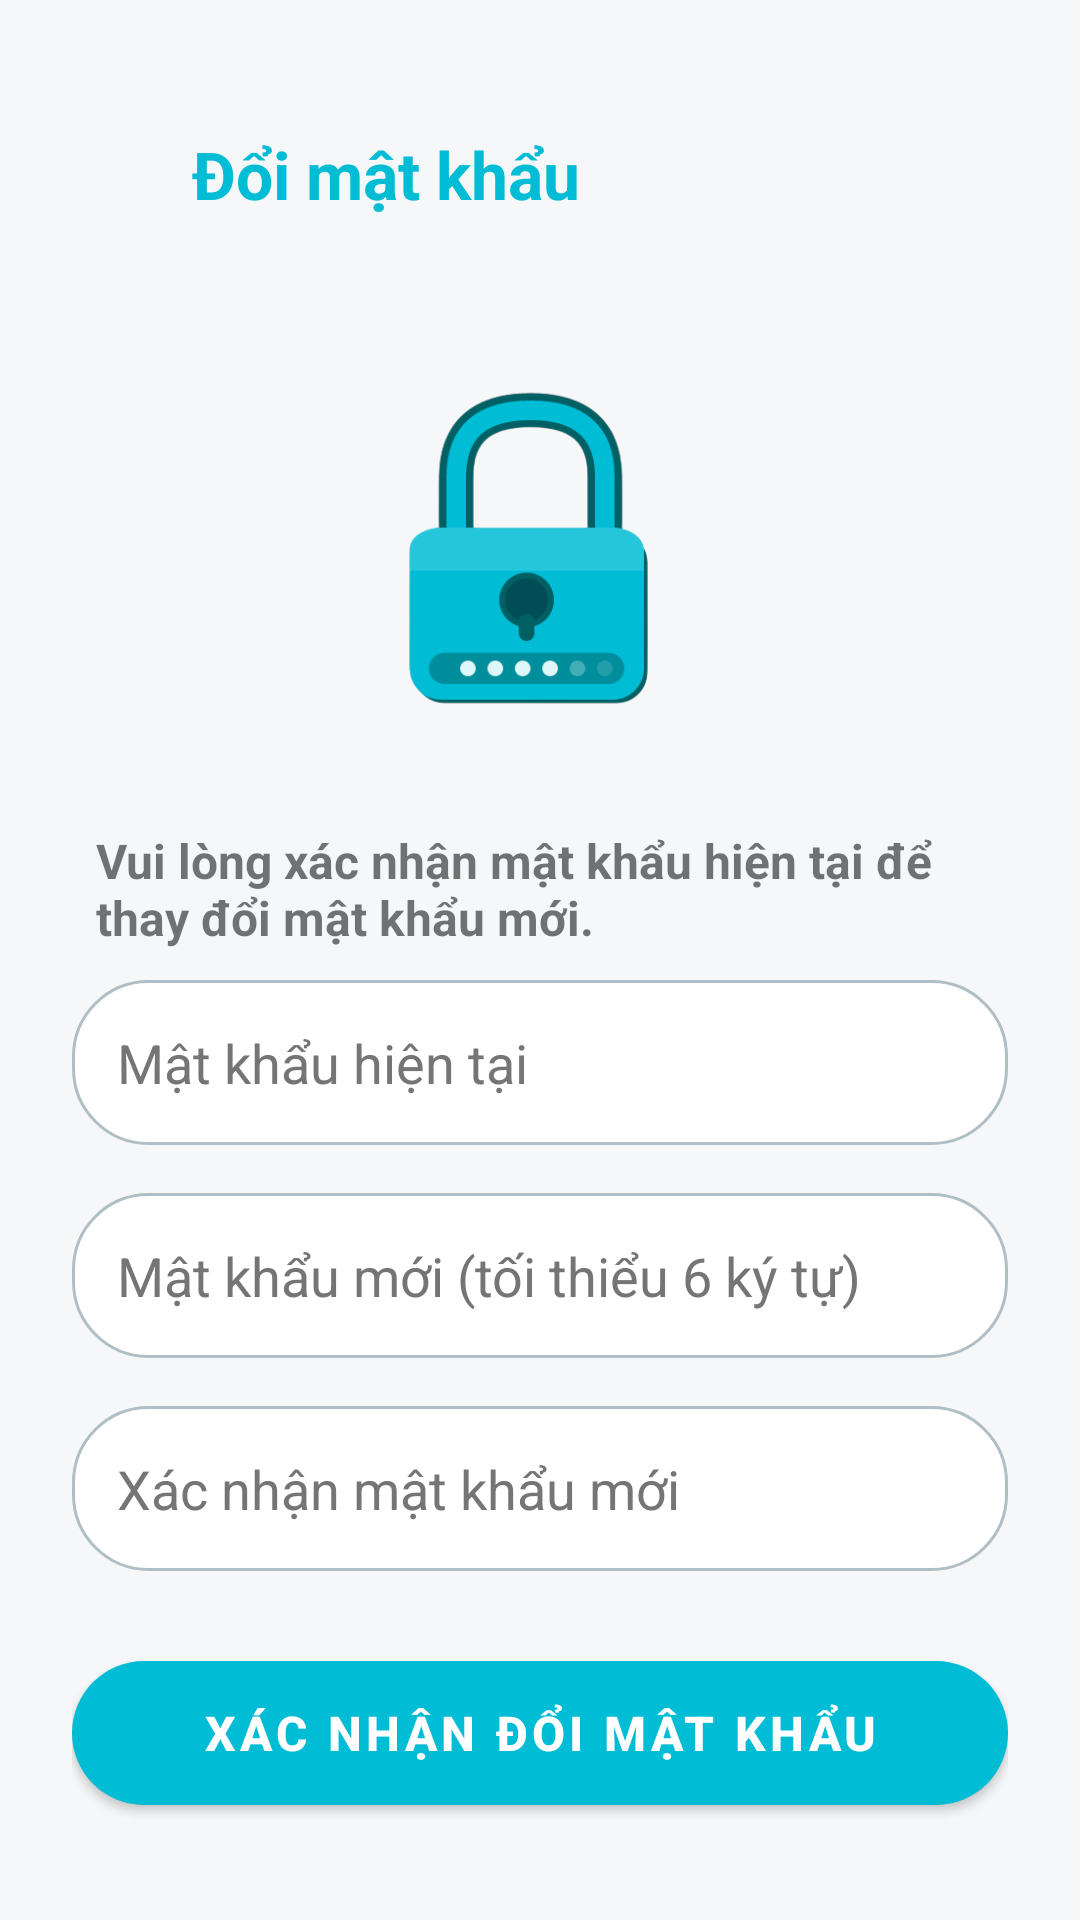

Where icons sit on this 1080px×1920px app screen, as (x1, y1, x2, y2):
pic lock: (409, 392, 648, 704)
